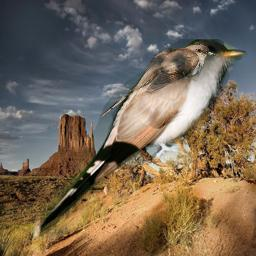Cuckoo: (31, 39, 248, 239), (100, 43, 216, 118)
